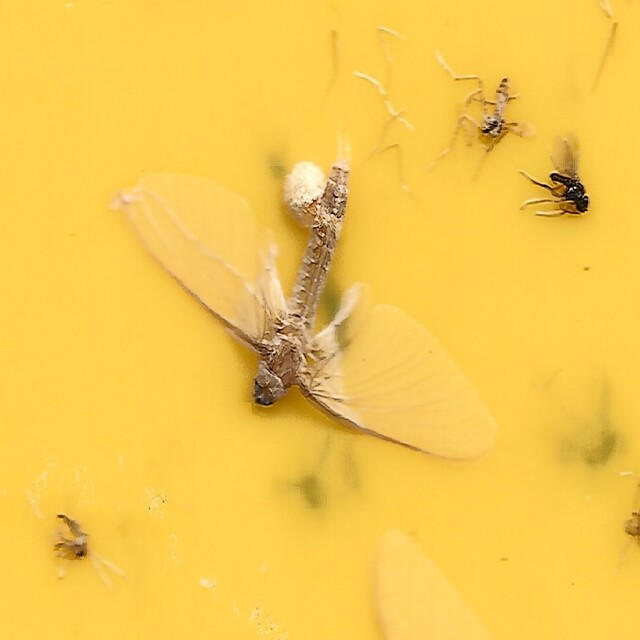Brachycera: (548, 138, 590, 217)
Ephemeroptera: (122, 153, 494, 466)
Nematocera: (475, 74, 514, 148), (50, 509, 91, 566)
